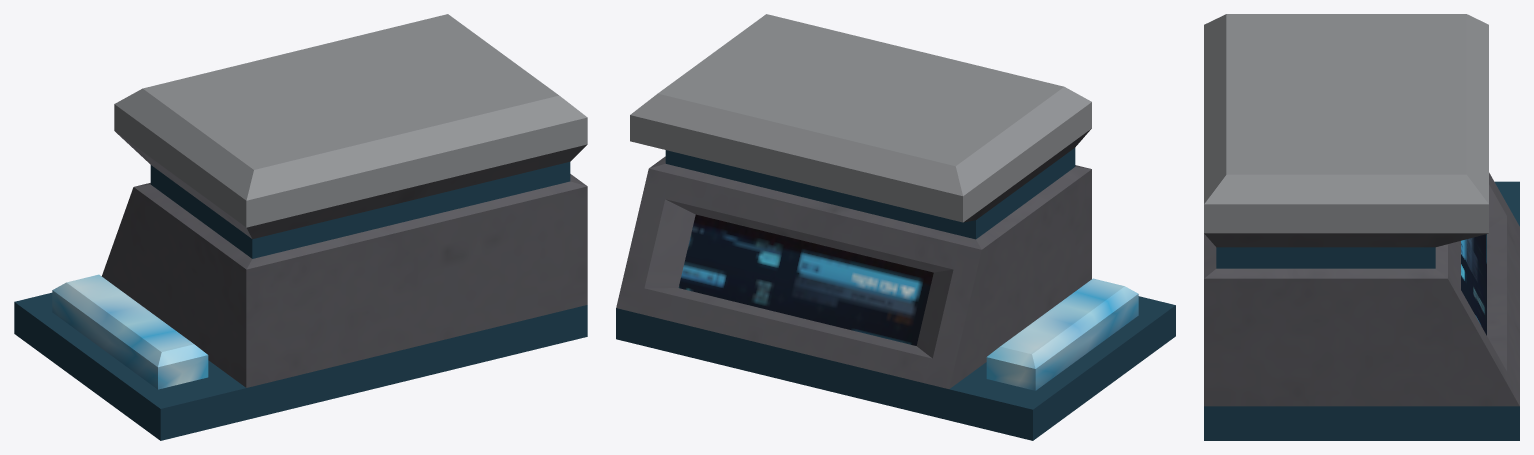
File: Printer.fbx
3 views of the same model, side by side, from view 1: azimuth 30°, elevation 25°; view 2: azimuth 150°, elevation 25°; view 3: azimuth 270°, elevation 25° (orthographic). The views are drawn at different scales.
Parts seen in each view (by area): view 1: Printer; view 2: Printer; view 3: Printer.
Boxes of the visible parts, left/top/right/bottom form: Printer: left=14, top=14, right=587, bottom=440; Printer: left=616, top=14, right=1175, bottom=440; Printer: left=1204, top=14, right=1519, bottom=440.
Bounding box in the file's own units: 99.34 × 52.92 × 58.97.
